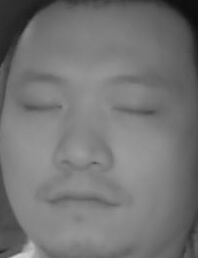blink: (23, 90, 65, 117), (112, 101, 156, 125)
mouth: (47, 184, 122, 223)
